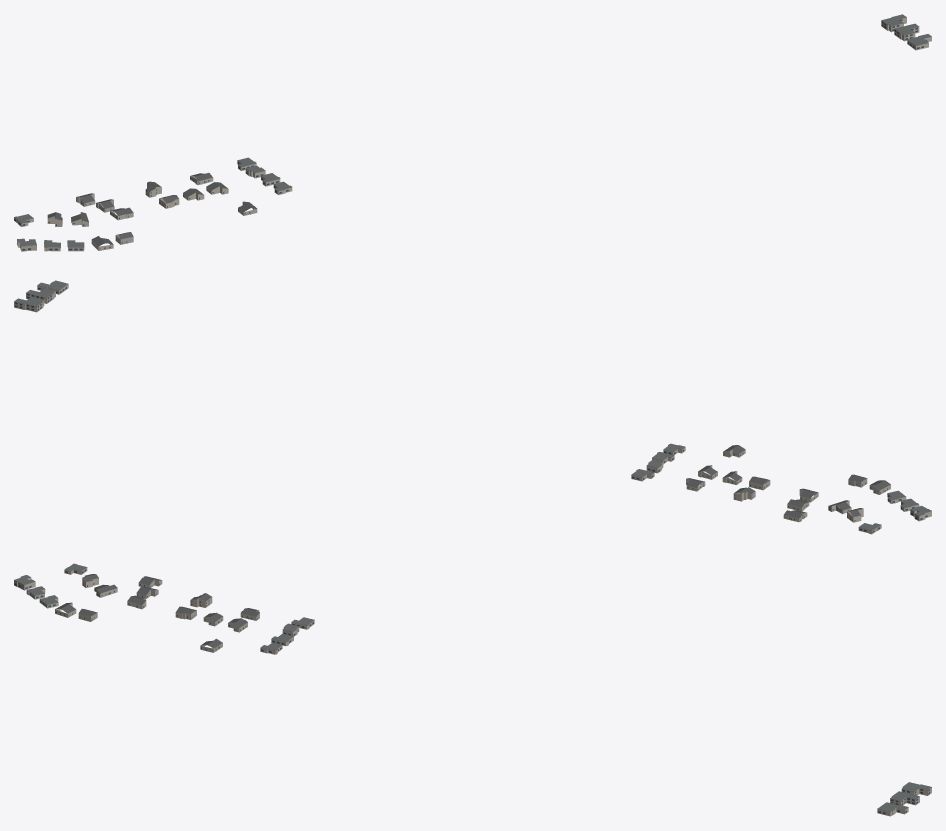
3 renders of one model, top to bottom at view 1: azimuth 30°, elevation 25°; view 2: azimuth 150°, elevation 25°; view 3: azimuth 330°, elevation 25°, orthographic.
Parts seen in each view (by area): view 1: Buildings (1, 10) Masonry brick, Buildings (1, 10) Roof shingles, Buildings (1, 10) Roof membrane; view 2: Buildings (1, 10) Masonry brick, Buildings (1, 10) Roof shingles, Buildings (1, 10) Roof membrane; view 3: Buildings (1, 10) Masonry brick, Buildings (1, 10) Roof shingles, Buildings (1, 10) Roof membrane.
Boxes of the visible parts, x1,y1,x2,y2 form: Buildings (1, 10) Masonry brick: (14, 17, 931, 251); Buildings (1, 10) Roof shingles: (47, 173, 256, 246); Buildings (1, 10) Roof membrane: (14, 14, 931, 247); Buildings (1, 10) Masonry brick: (14, 284, 931, 534); Buildings (1, 10) Roof shingles: (687, 445, 890, 518); Buildings (1, 10) Roof membrane: (14, 280, 931, 530); Buildings (1, 10) Masonry brick: (14, 568, 931, 816); Buildings (1, 10) Roof shingles: (55, 574, 259, 648); Buildings (1, 10) Roof membrane: (14, 563, 931, 811).
Size of the model in its own units: 979 by 9.03 by 110.
